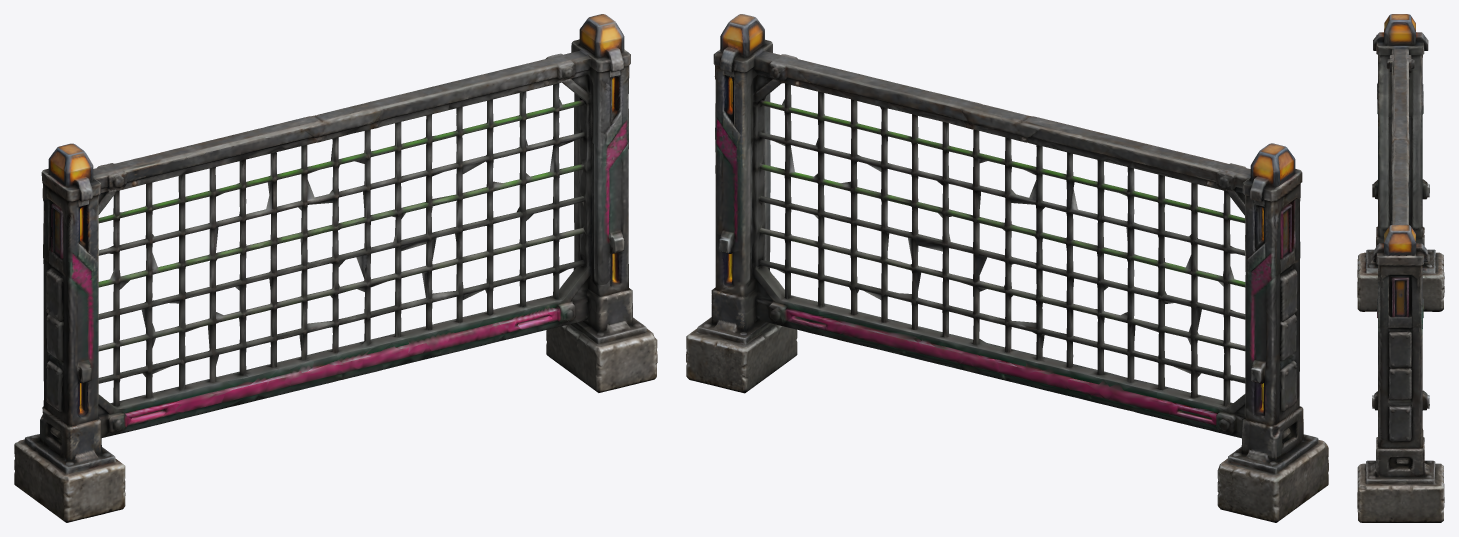
File: kairox-safety-fence.glb
3 renders of one model, left to right at view 1: azimuth 30°, elevation 25°; view 2: azimuth 150°, elevation 25°; view 3: azimuth 270°, elevation 25°, orthographic. The views are drawn at different scales.
Parts seen in each view (by area): view 1: kairox-safety-fence; view 2: kairox-safety-fence; view 3: kairox-safety-fence.
Part boxes in pixels (x1,y1,x2,y2): kairox-safety-fence: (14, 14, 657, 522); kairox-safety-fence: (686, 14, 1328, 522); kairox-safety-fence: (1357, 14, 1444, 522).
Bounding box in the file's own units: 4 × 2.24 × 0.626.
Materials: 1 (1 with a texture image).
